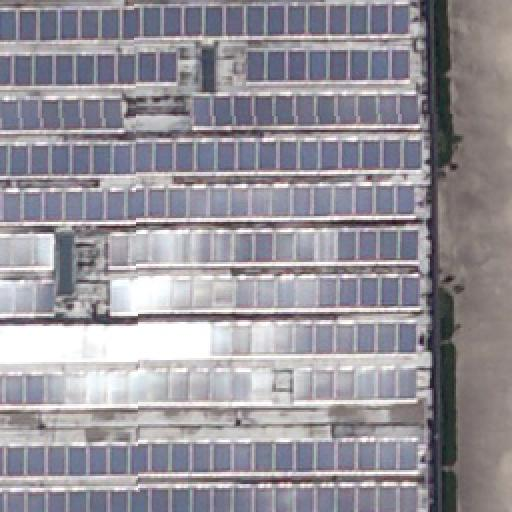solar-panel: (1, 318, 423, 362), (0, 435, 424, 477), (0, 183, 420, 225), (0, 138, 420, 178), (0, 5, 408, 43), (107, 275, 421, 317), (107, 229, 421, 267), (0, 484, 424, 512), (1, 368, 255, 408), (189, 95, 419, 129), (0, 52, 180, 88), (247, 50, 409, 86), (292, 366, 424, 406), (0, 98, 124, 134), (0, 234, 56, 270), (1, 279, 55, 313)
